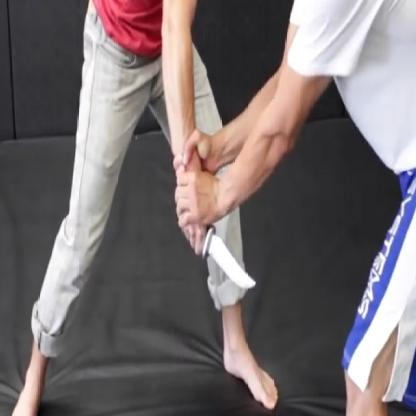knife: (176, 210, 262, 298)
